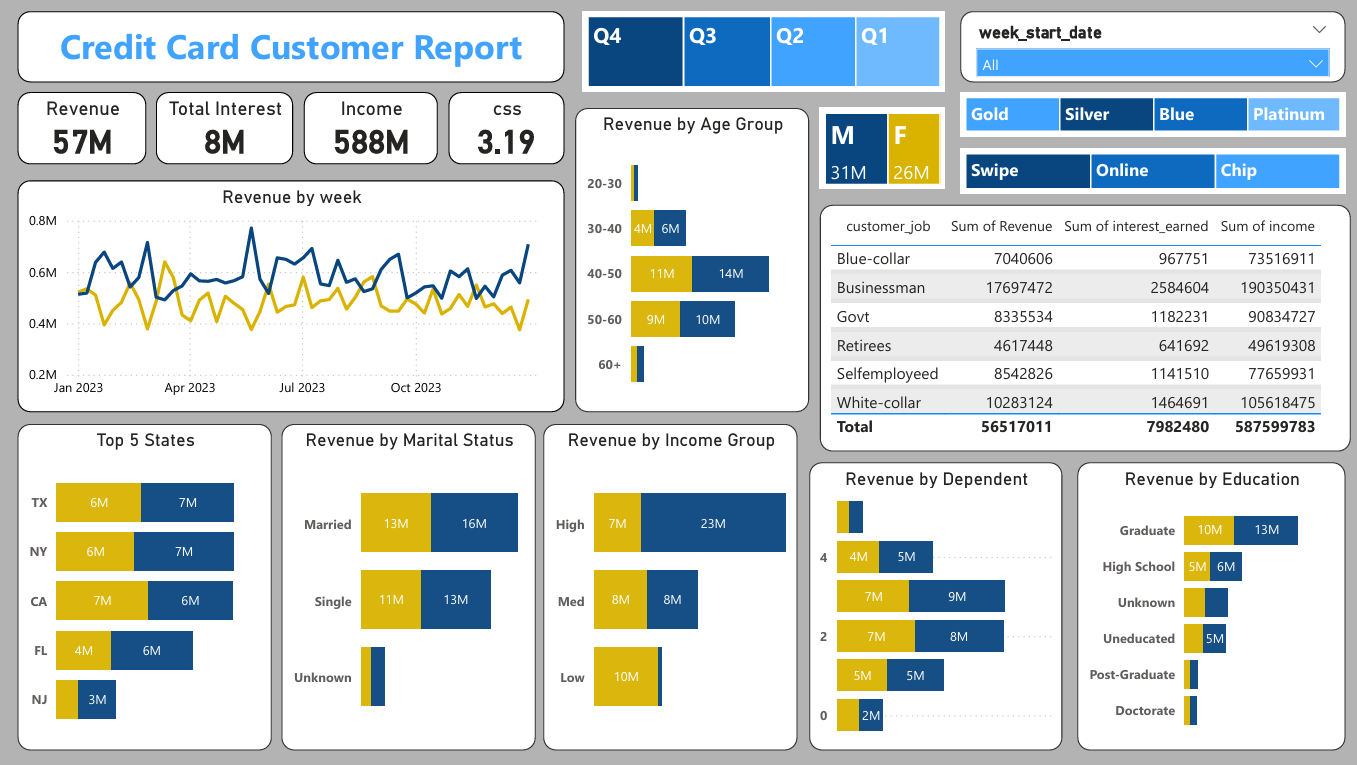

This screenshot's page, from the dashboard's own definition file:
{"tool":"powerbi","page":{"name":"CC customer","canvas":[1280,720],"ordinal":1},"visuals":[{"type":"textbox","box":[16.2,10,513.8,67.2],"z":0},{"type":"barChart","title":"Revenue by Income Group","fields":{"Y":["Sum(public cc_detail.Revenue)"],"Category":["public cust_detail.IncomeGroup"],"Series":["public cust_detail.gender"]},"box":[510.1,398.1,238.9,307.3],"z":1000},{"type":"tableEx","fields":{"Values":["public cust_detail.customer_job","Sum(public cc_detail.Revenue)","Sum(public cc_detail.interest_earned)","Sum(public cust_detail.income)"]},"box":[770.1,191.6,498.9,232.7],"z":2000},{"type":"card","title":"Revenue","fields":{"Values":["Sum(public cc_detail.Revenue)"]},"box":[16.2,85.8,120.7,68.4],"z":3000},{"type":"card","title":"Income","fields":{"Values":["Sum(public cust_detail.income)"]},"box":[284.9,85.8,125.7,68.4],"z":4000},{"type":"card","title":"Total Interest","fields":{"Values":["Sum(public cc_detail.interest_earned)"]},"box":[145.6,85.8,129.4,68.4],"z":5000},{"type":"card","title":"css","fields":{"Values":["Avg(public cust_detail.cust_satisfaction_score)"]},"box":[420.5,85.8,109.5,68.4],"z":6000},{"type":"slicer","fields":{"Values":["public cc_detail.week_start_date"]},"box":[902,10,362.1,67.2],"z":7000},{"type":"treemap","fields":{"Group":["public cc_detail.qtr"],"Values":["Avg(public cc_detail.client_num)"]},"box":[547.4,10,340.9,75.9],"z":8000},{"type":"treemap","fields":{"Values":["Avg(public cc_detail.client_num)"],"Group":["public cc_detail.card_category"]},"box":[902,85.8,362.1,42.3],"z":9000},{"type":"lineChart","title":"Revenue by week","fields":{"Y":["Sum(public cc_detail.Revenue)"],"Series":["public cust_detail.gender"],"Category":["public cc_detail.week_start_date.Variation.Date Hierarchy.Year","public cc_detail.week_start_date.Variation.Date Hierarchy.Month","public cc_detail.week_start_date.Variation.Date Hierarchy.Day"]},"box":[16.2,169.2,513.8,217.7],"z":10000},{"type":"treemap","fields":{"Group":["public cust_detail.gender"],"Values":["Sum(public cc_detail.Revenue)"]},"box":[770.1,100.8,118.2,77.1],"z":11000},{"type":"barChart","title":"Revenue by Age Group","fields":{"Y":["Sum(public cc_detail.Revenue)"],"Category":["public cust_detail.AgeGroup"],"Series":["public cust_detail.gender"]},"box":[540,100.8,220.2,286.2],"z":12000},{"type":"barChart","title":"Revenue by Dependent","fields":{"Y":["Sum(public cc_detail.Revenue)"],"Category":["public cust_detail.dependent_count"],"Series":["public cust_detail.gender"]},"box":[760.2,434.2,237.6,271.2],"z":13000},{"type":"barChart","title":"Revenue by Education","fields":{"Y":["Sum(public cc_detail.Revenue)"],"Category":["public cust_detail.education_level"],"Series":["public cust_detail.gender"]},"box":[1011.5,434.2,252.6,271.2],"z":14000},{"type":"barChart","title":"Top 5 States","fields":{"Y":["Sum(public cc_detail.Revenue)"],"Category":["public cust_detail.state_cd"],"Series":["public cust_detail.gender"]},"box":[16.2,398.1,238.9,307.3],"z":15000},{"type":"barChart","title":"Revenue by Marital Status","fields":{"Y":["Sum(public cc_detail.Revenue)"],"Category":["public cust_detail.marital_status"],"Series":["public cust_detail.gender"]},"box":[263.8,398.1,238.9,307.3],"z":16000},{"type":"treemap","fields":{"Values":["Avg(public cc_detail.client_num)"],"Group":["public cc_detail.use_chip"]},"box":[902,139.3,362.1,42.3],"z":17000}]}

Visuals, with their boxes in screenshot pixels (x1, y1, x2, y2), scaled from the page's 1280x720 canvas onto the 1357x765 screenshot:
textbox: x1=17 y1=11 x2=562 y2=82
"Revenue by Income Group" barChart: x1=541 y1=423 x2=794 y2=749
tableEx - public cust_detail.customer_job x Sum(public cc_detail.Revenue): x1=816 y1=204 x2=1345 y2=451
"Revenue" card: x1=17 y1=91 x2=145 y2=164
"Income" card: x1=302 y1=91 x2=435 y2=164
"Total Interest" card: x1=154 y1=91 x2=292 y2=164
"css" card: x1=446 y1=91 x2=562 y2=164
slicer - public cc_detail.week_start_date: x1=956 y1=11 x2=1340 y2=82
treemap - public cc_detail.qtr x Avg(public cc_detail.client_num): x1=580 y1=11 x2=942 y2=91
treemap - Avg(public cc_detail.client_num) x public cc_detail.card_category: x1=956 y1=91 x2=1340 y2=136
"Revenue by week" lineChart: x1=17 y1=180 x2=562 y2=411
treemap - public cust_detail.gender x Sum(public cc_detail.Revenue): x1=816 y1=107 x2=942 y2=189
"Revenue by Age Group" barChart: x1=572 y1=107 x2=806 y2=411
"Revenue by Dependent" barChart: x1=806 y1=461 x2=1058 y2=749
"Revenue by Education" barChart: x1=1072 y1=461 x2=1340 y2=749
"Top 5 States" barChart: x1=17 y1=423 x2=270 y2=749
"Revenue by Marital Status" barChart: x1=280 y1=423 x2=533 y2=749
treemap - Avg(public cc_detail.client_num) x public cc_detail.use_chip: x1=956 y1=148 x2=1340 y2=193
